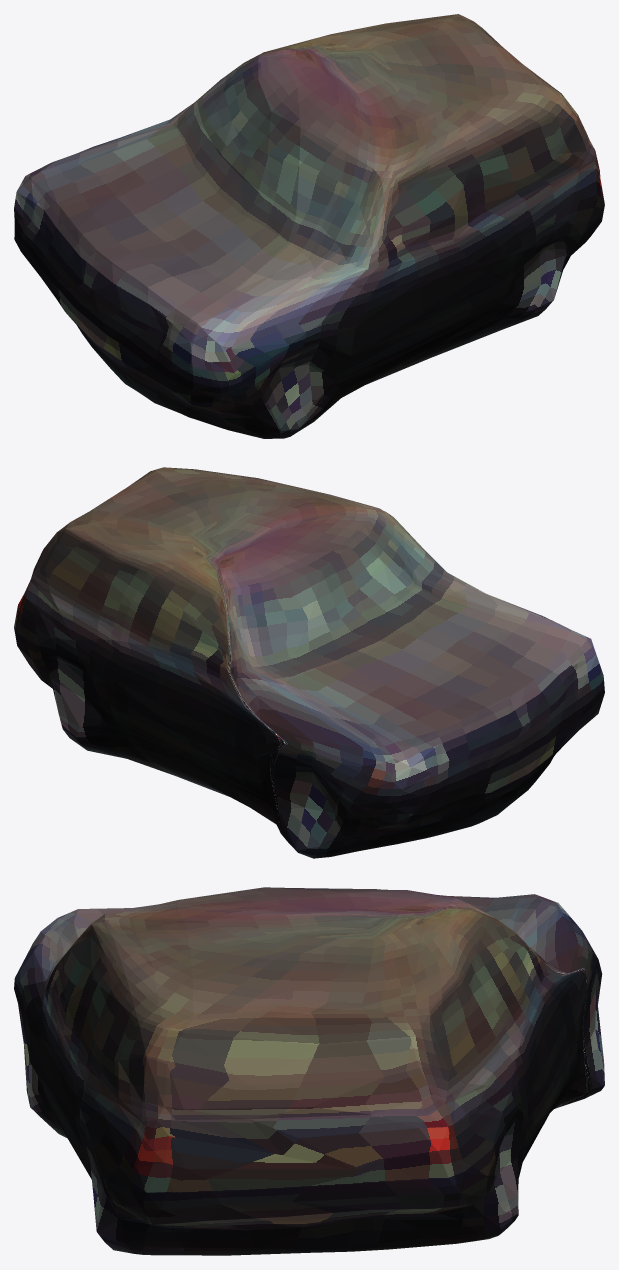
File: video0_11.obj
The picture shows the model from 3 angles, top to bottom: view 1: azimuth 30°, elevation 25°; view 2: azimuth 150°, elevation 25°; view 3: azimuth 270°, elevation 25°; orthographic projection. The views are drawn at different scales.
Size of the model in its own units: 1 by 0.5082 by 0.8354.
Materials: 1 (1 with a texture image).
